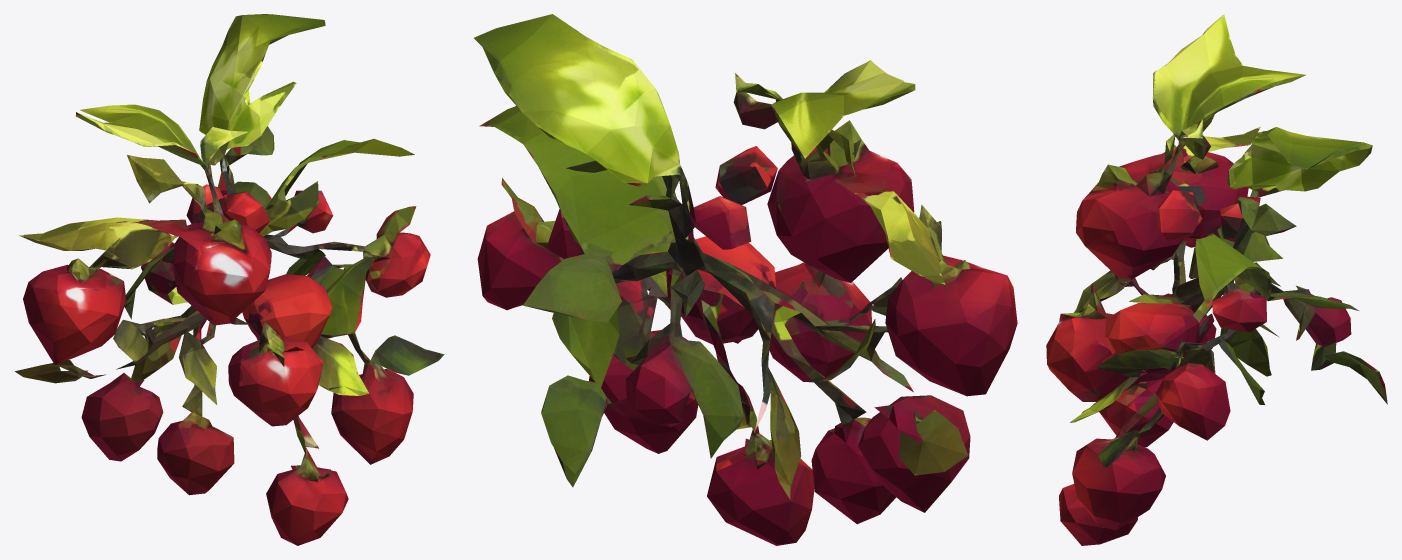
File: berry_red.glb
3 views of the same model, side by side, from view 1: azimuth 30°, elevation 25°; view 2: azimuth 150°, elevation 25°; view 3: azimuth 270°, elevation 25° (orthographic). The views are drawn at different scales.
Parts seen in each view (by area): view 1: tmpjcqv1l1k.ply; view 2: tmpjcqv1l1k.ply; view 3: tmpjcqv1l1k.ply.
Part boxes in pixels (left/top/right/bottom): tmpjcqv1l1k.ply: left=15, top=14, right=444, bottom=545; tmpjcqv1l1k.ply: left=474, top=14, right=1017, bottom=545; tmpjcqv1l1k.ply: left=1046, top=14, right=1387, bottom=545.
Bounding box in the file's own units: 1.89 × 1.99 × 1.36.
Materials: 1 (1 with a texture image).
